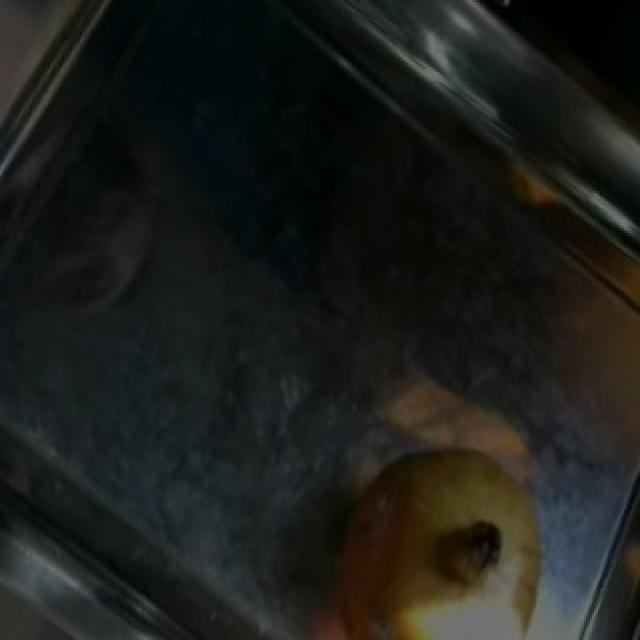fruit: (306, 414, 578, 638)
